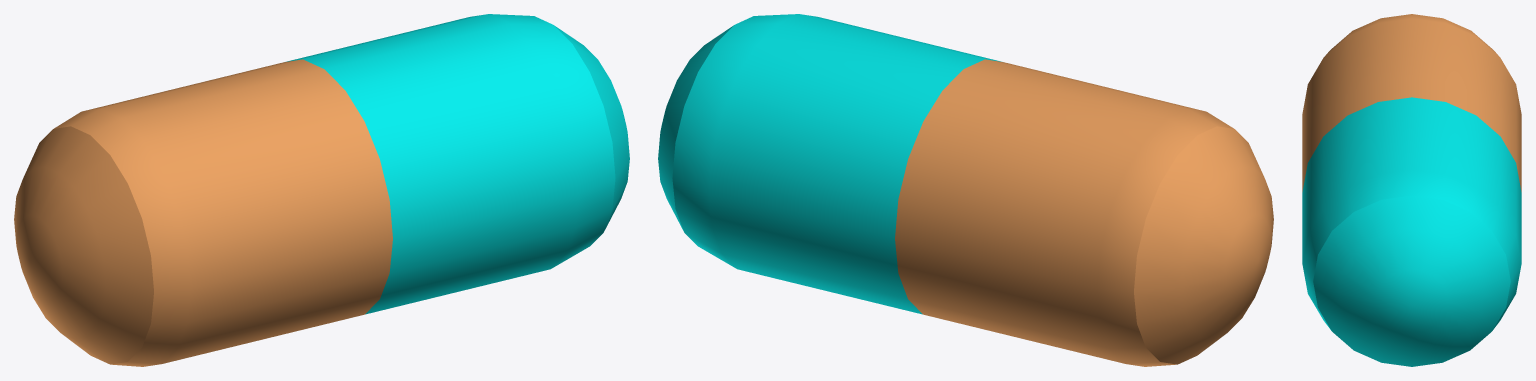
Rendered from ANTIBIOTIC3.fbx.
The picture shows the model from 3 angles, left to right: view 1: azimuth 30°, elevation 25°; view 2: azimuth 150°, elevation 25°; view 3: azimuth 270°, elevation 25°; orthographic projection. The views are drawn at different scales.
Visible parts, largest first — view 1: pasted__pCylinder4; view 2: pasted__pCylinder4; view 3: pasted__pCylinder4.
Boxes of the visible parts, x1=… form: pasted__pCylinder4: x1=14, y1=14, x2=629, y2=366; pasted__pCylinder4: x1=658, y1=14, x2=1273, y2=366; pasted__pCylinder4: x1=1302, y1=14, x2=1521, y2=366.
Bounding box in the file's own units: 5.35 × 2.09 × 2.18.
